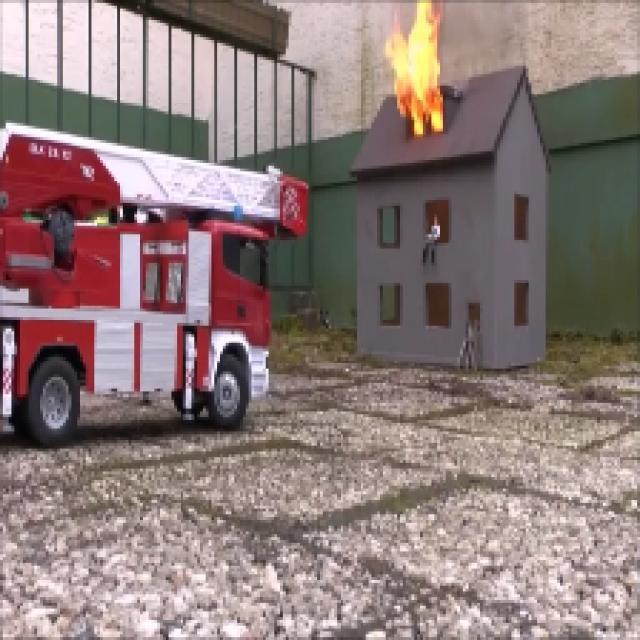Fire: (392, 11, 446, 128)
